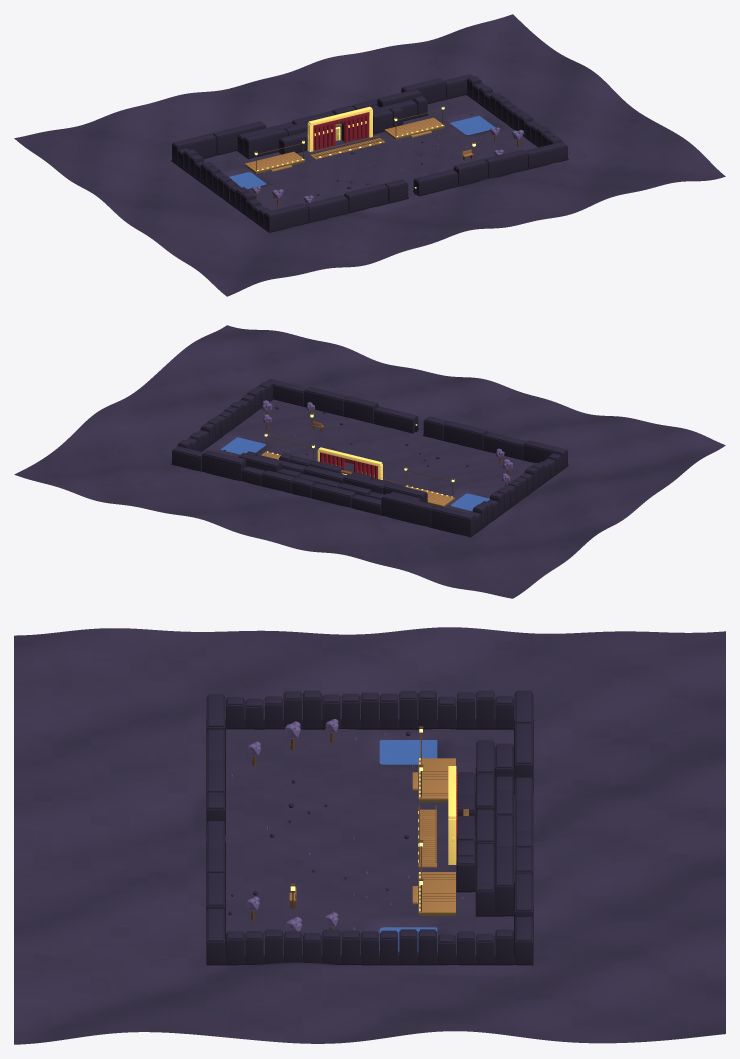
File: stage.glb
3 views of the same model, one above another, from view 1: azimuth 30°, elevation 25°; view 2: azimuth 150°, elevation 25°; view 3: azimuth 270°, elevation 25° (orthographic). The views are drawn at different scales.
Parts seen in each view (by area): view 1: ground, walls, props, water, bridges, trees; view 2: ground, walls, props, water, trees; view 3: ground, walls, props, water, trees, bridges.
Part boxes in pixels (x1=…): ground: x1=14, y1=14, x2=725, y2=296; walls: x1=171, y1=74, x2=568, y2=232; props: x1=239, y1=98, x2=520, y2=195; water: x1=229, y1=115, x2=495, y2=188; bridges: x1=310, y1=135, x2=385, y2=159; trees: x1=251, y1=127, x2=523, y2=205; ground: x1=14, y1=325, x2=725, y2=598; walls: x1=171, y1=379, x2=568, y2=537; props: x1=223, y1=407, x2=493, y2=507; water: x1=220, y1=437, x2=489, y2=511; trees: x1=262, y1=400, x2=512, y2=485; ground: x1=14, y1=627, x2=725, y2=1044; walls: x1=206, y1=690, x2=533, y2=965; props: x1=228, y1=726, x2=468, y2=930; water: x1=379, y1=740, x2=437, y2=951; trees: x1=246, y1=719, x2=338, y2=931; bridges: x1=418, y1=805, x2=436, y2=867.
Size of the model in its own units: 50 by 3.26 by 37.
